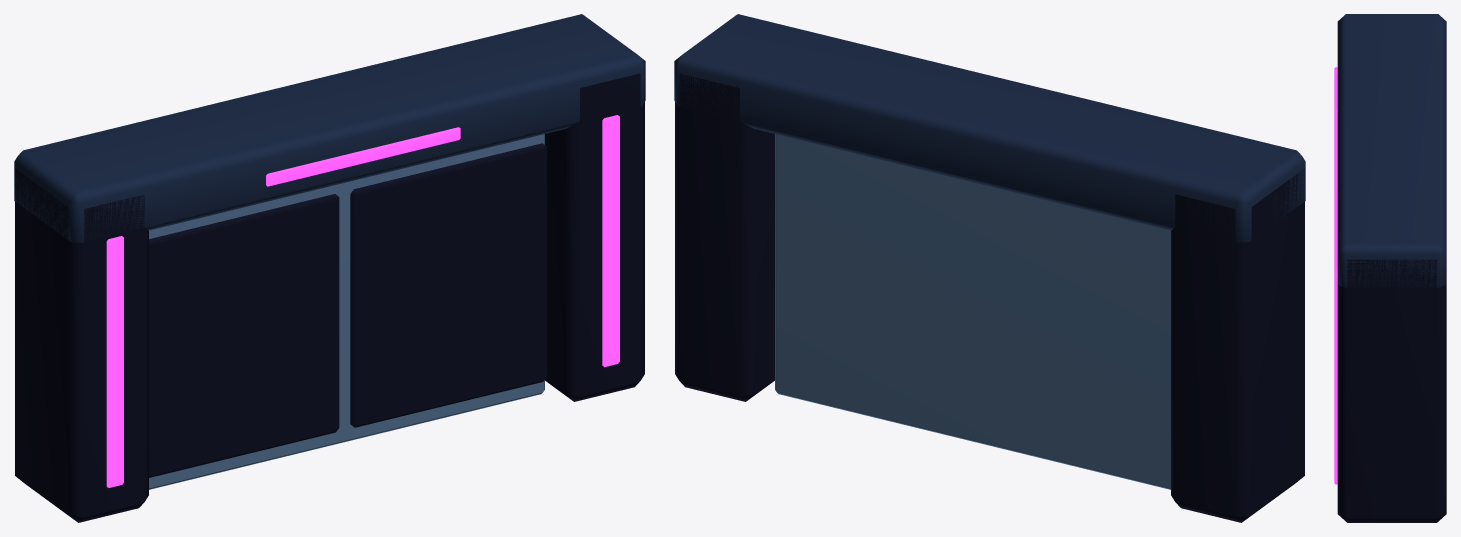
The model's file is NT_Gate_Closed.fbx.
The picture shows the model from 3 angles, left to right: view 1: azimuth 30°, elevation 25°; view 2: azimuth 150°, elevation 25°; view 3: azimuth 270°, elevation 25°; orthographic projection. The views are drawn at different scales.
Visible parts, largest first — view 1: NT_Gate_Closed__WallMesh; view 2: NT_Gate_Closed__WallMesh; view 3: NT_Gate_Closed__WallMesh.
Boxes of the visible parts, <box> form: NT_Gate_Closed__WallMesh: <box>14,14,645,522</box>; NT_Gate_Closed__WallMesh: <box>674,14,1305,522</box>; NT_Gate_Closed__WallMesh: <box>1334,14,1446,522</box>.
Size of the model in its own units: 4 by 2.21 by 0.804.
